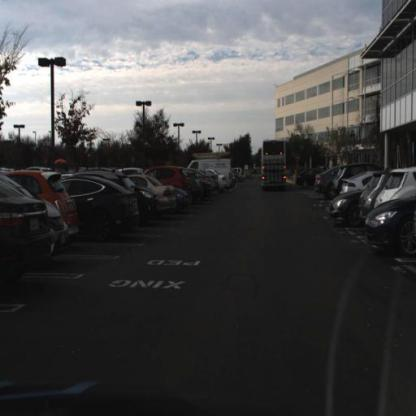car: (1, 171, 82, 252), (0, 175, 53, 296), (79, 176, 140, 242), (364, 195, 416, 259), (375, 167, 415, 212), (328, 184, 362, 228), (359, 164, 380, 216), (138, 182, 161, 223), (337, 169, 371, 194), (138, 182, 158, 222), (158, 180, 177, 216), (314, 166, 333, 201), (162, 164, 188, 188), (166, 162, 191, 186), (295, 164, 318, 190), (175, 181, 193, 214), (160, 180, 176, 216), (186, 172, 202, 205), (330, 163, 344, 199), (174, 185, 188, 212), (198, 175, 212, 199), (193, 171, 202, 205), (218, 170, 226, 196)
truck: (258, 132, 290, 192), (221, 146, 235, 194)
